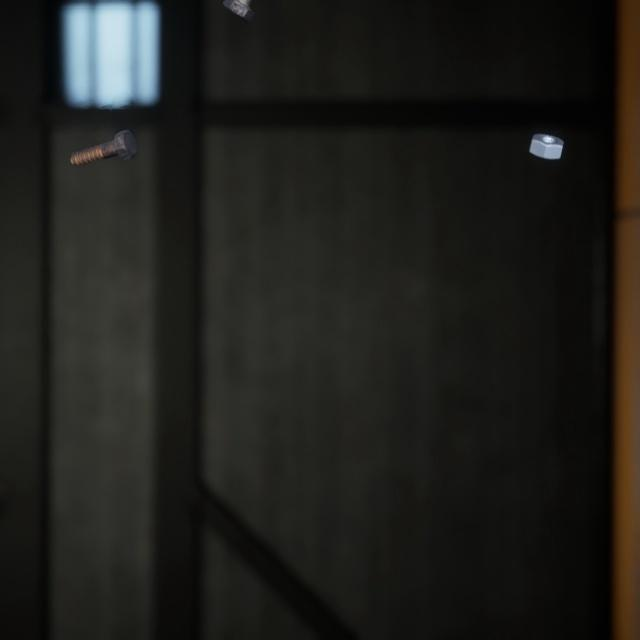bolt: (65, 112, 141, 157)
nut: (524, 116, 568, 150)
